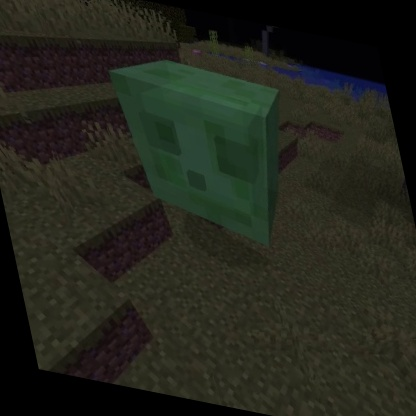slime: (95, 41, 319, 262)
